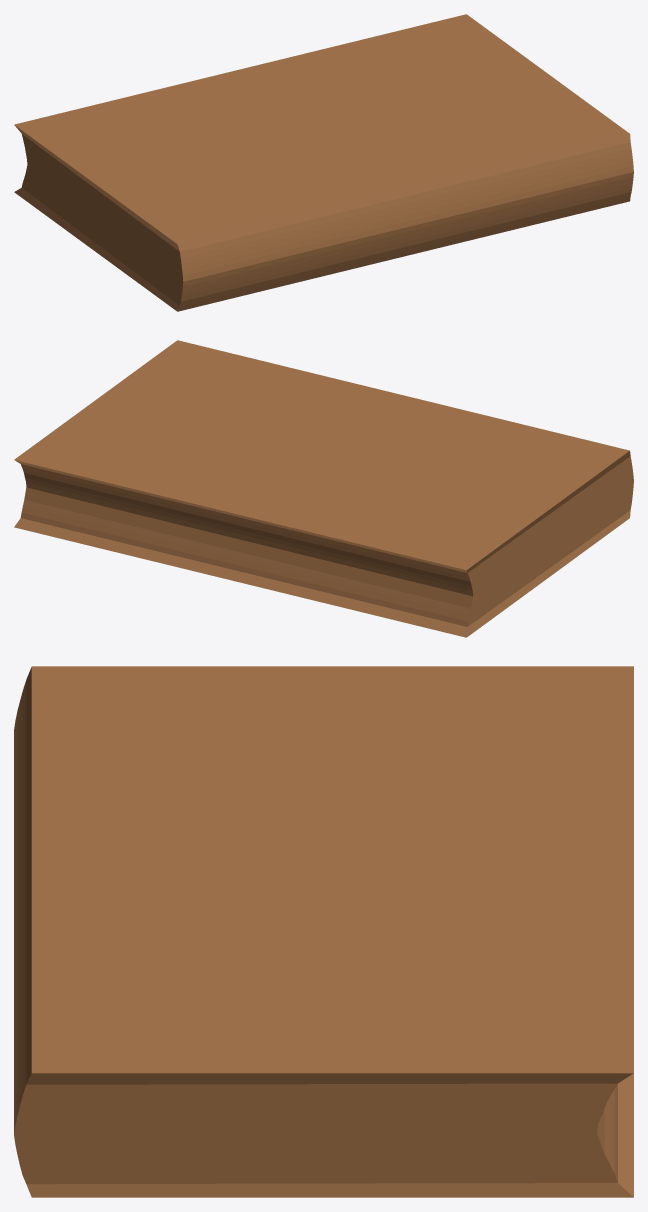
The model's file is Book.fbx.
3 views of the same model, one above another, from view 1: azimuth 30°, elevation 25°; view 2: azimuth 150°, elevation 25°; view 3: azimuth 270°, elevation 25° (orthographic). The views are drawn at different scales.
Visible parts, largest first — view 1: Plane; view 2: Plane; view 3: Plane.
Boxes of the visible parts, <box> form: Plane: <box>14,14,633,311</box>; Plane: <box>14,340,633,637</box>; Plane: <box>14,666,633,1197</box>.
Size of the model in its own units: 140 by 20 by 90.38.
